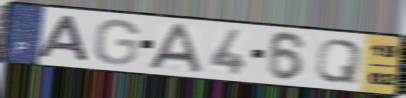4: (207, 28, 248, 77)
6: (264, 30, 312, 82)
A: (146, 22, 204, 73), (35, 13, 92, 64)
G: (92, 18, 142, 67)
Q: (312, 37, 365, 85)
